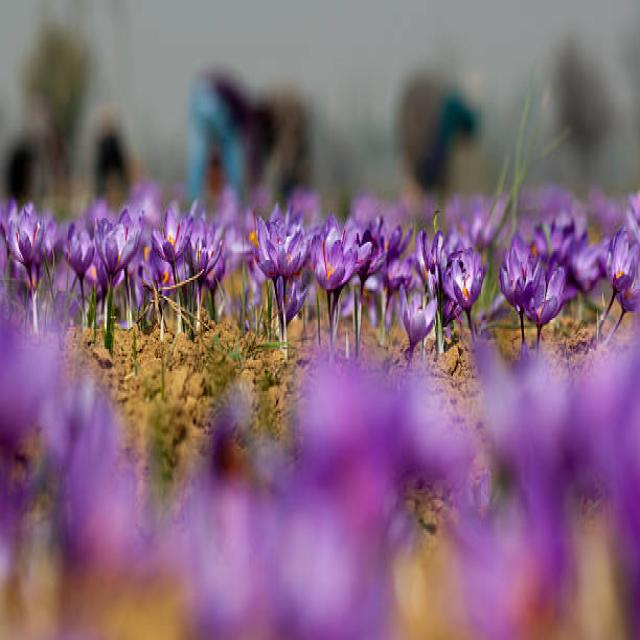saffron open: (96, 209, 142, 354), (152, 206, 192, 335), (6, 202, 44, 333), (499, 233, 540, 348), (525, 267, 565, 352), (400, 285, 438, 359)
